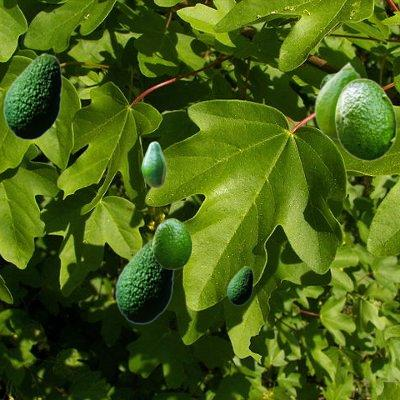avocado: (334, 78, 396, 160), (3, 53, 61, 139), (115, 238, 173, 323), (314, 61, 362, 139), (152, 218, 191, 268), (141, 141, 165, 187), (227, 266, 252, 304), (319, 73, 334, 89)
